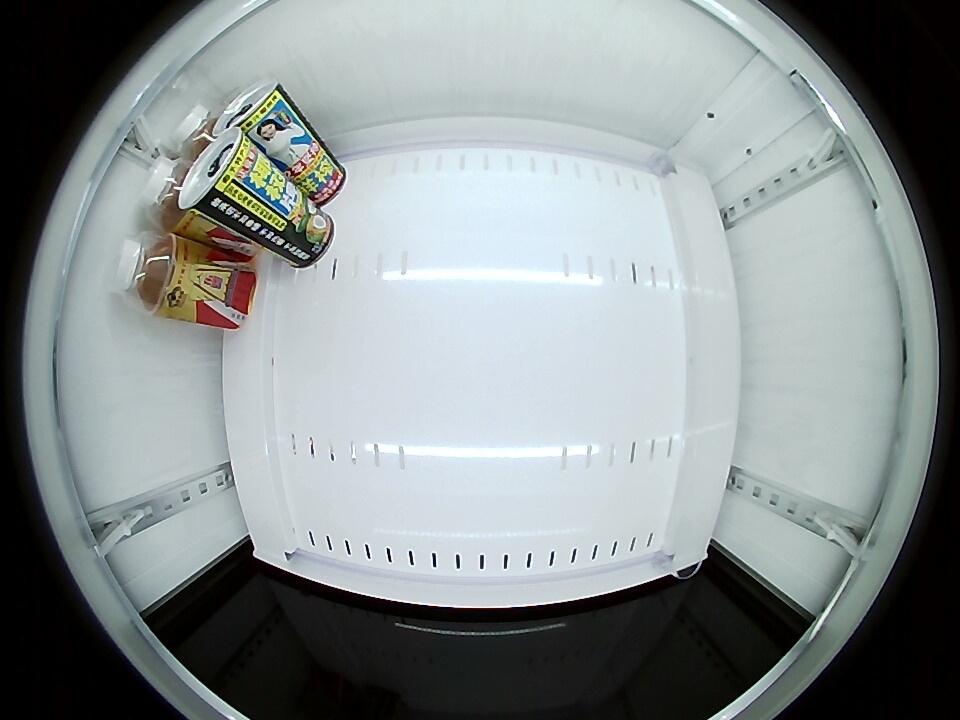dongpeng-b: (111, 233, 183, 314), (139, 156, 196, 230), (170, 105, 220, 160)
yezhi: (180, 127, 257, 226), (214, 79, 290, 140)
